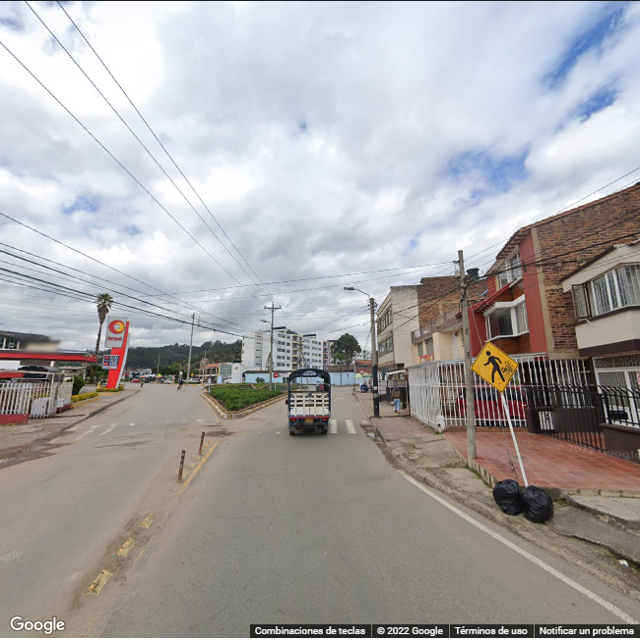D00: (258, 492, 281, 536)
D10: (201, 513, 275, 520)
